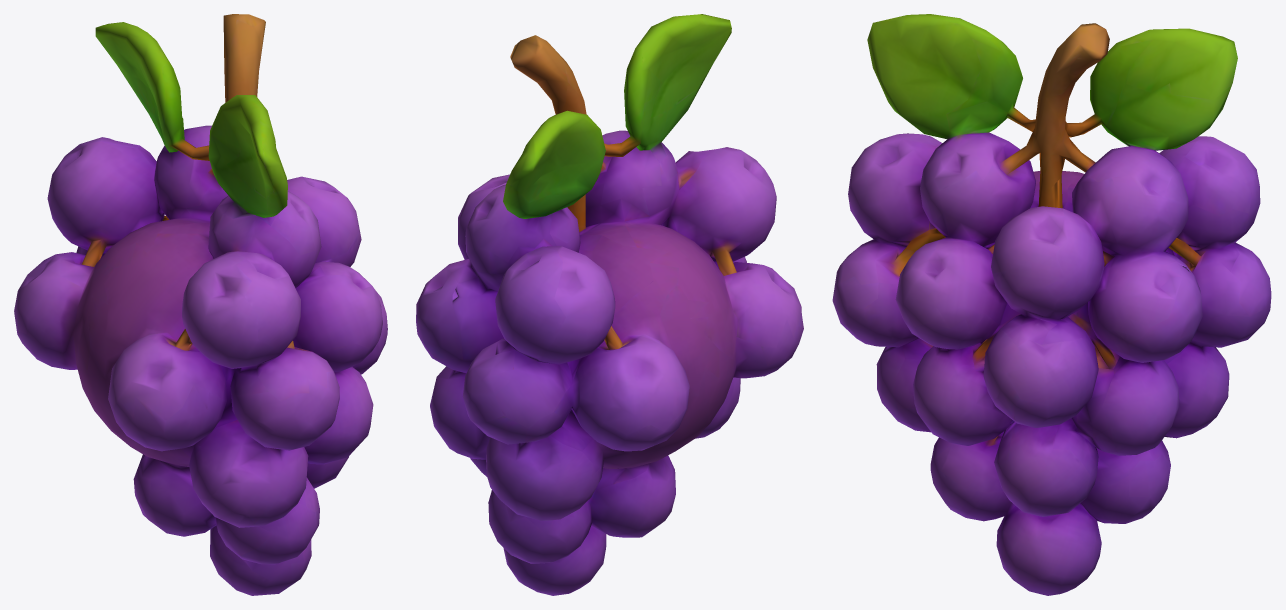
Rendered from food_grapes.glb.
3 renders of one model, left to right at view 1: azimuth 30°, elevation 25°; view 2: azimuth 150°, elevation 25°; view 3: azimuth 270°, elevation 25°, orthographic.
Visible parts, largest first — view 1: tripo_node_1fdb7ebb-bc38-46d1-921a-0cd1fc58a6c5; view 2: tripo_node_1fdb7ebb-bc38-46d1-921a-0cd1fc58a6c5; view 3: tripo_node_1fdb7ebb-bc38-46d1-921a-0cd1fc58a6c5.
Part boxes in pixels (bbox=[...]): tripo_node_1fdb7ebb-bc38-46d1-921a-0cd1fc58a6c5: bbox=[14, 14, 387, 595]; tripo_node_1fdb7ebb-bc38-46d1-921a-0cd1fc58a6c5: bbox=[416, 14, 803, 595]; tripo_node_1fdb7ebb-bc38-46d1-921a-0cd1fc58a6c5: bbox=[832, 14, 1271, 595].
Size of the model in its own units: 0.5688 by 1 by 0.7055.
Materials: 1 (1 with a texture image).
